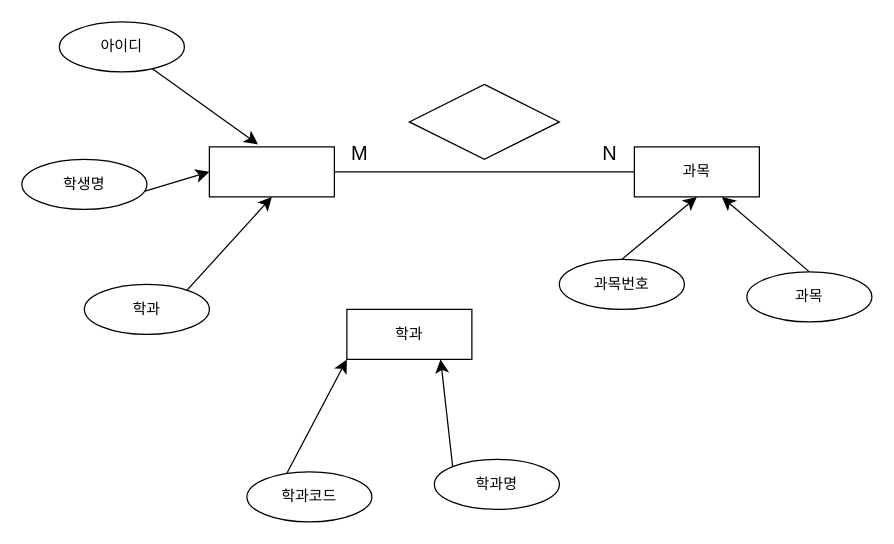
Some shapes in this 894 by 544 pixel diagram are drawn without their labels. The shapes that lost their labels are listed below. From the top down, each one's centre as x and y in pixels, then its label:
At [483,121]: "수강".
At [271,171]: "학생".
